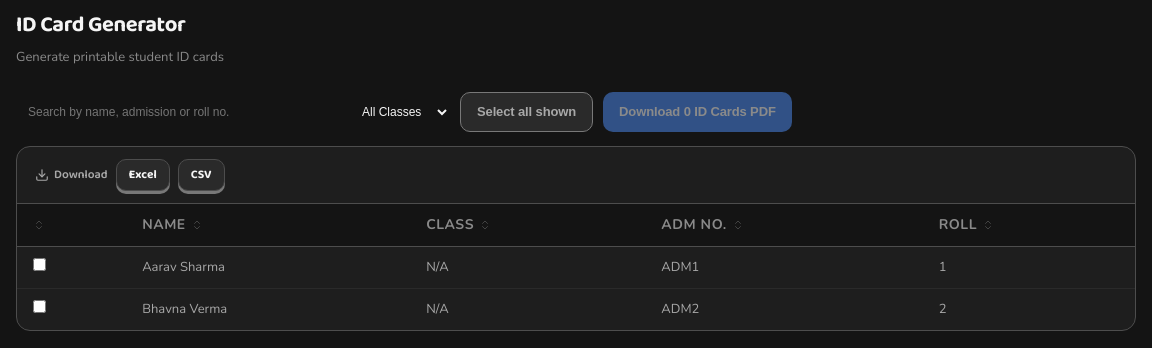
the ID card list › selects only what the search has left on screen
Expected: the text "Aarav Sharma" is shown, [126,247,410,289]
Type "bhavna" into the field with test id "id-card-search" at (176, 112), box [16,97,336,127]
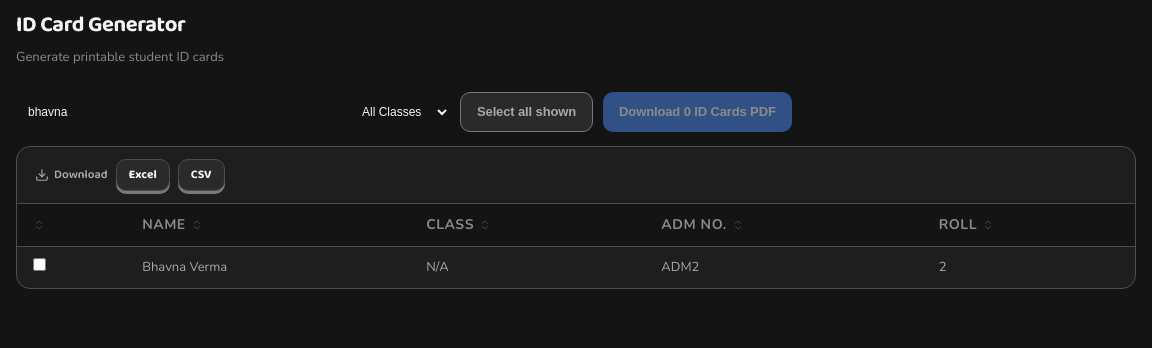
Expected: the text "Aarav Sharma" is gone
Click the button "Select all shown" at (527, 112), box [460,92,593,132]
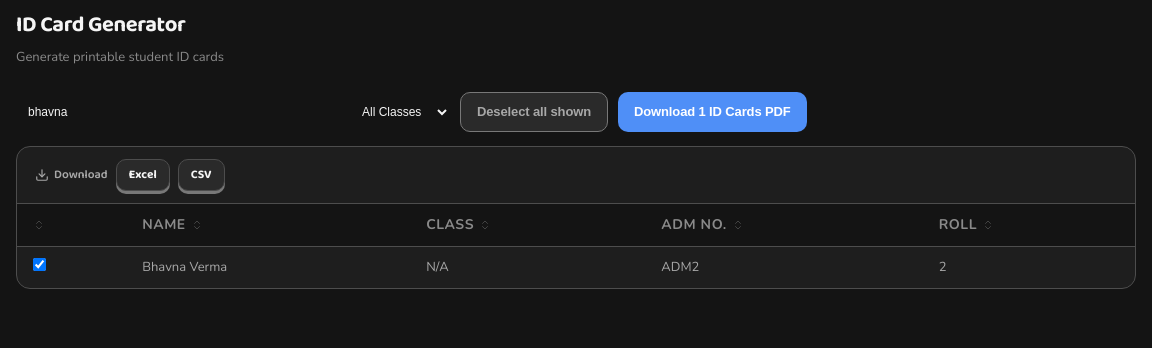
Expected: the button "Download 1 ID Cards PDF" is shown, [618,92,807,132]
